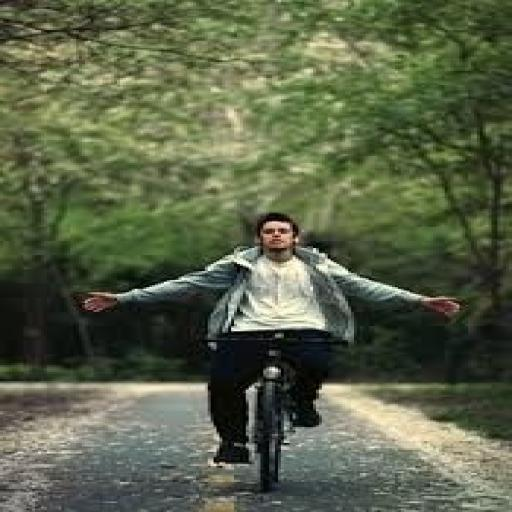cycling: (76, 211, 468, 468)
